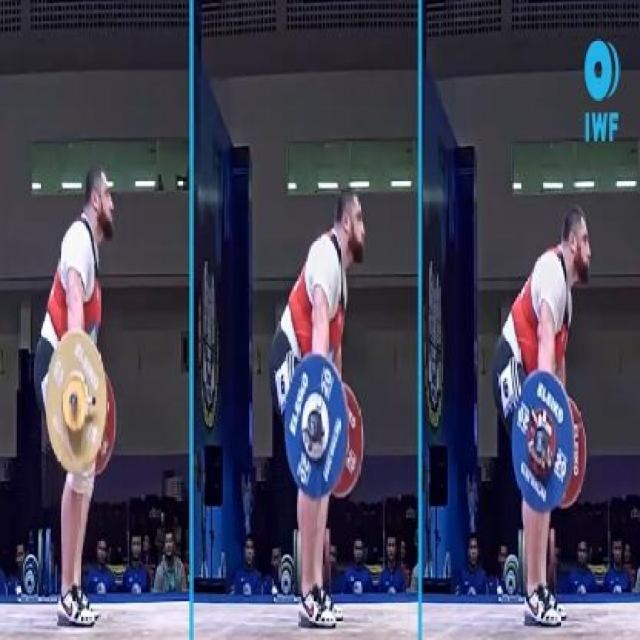Barbell: (530, 427, 548, 462), (307, 413, 321, 439), (68, 390, 80, 413)
